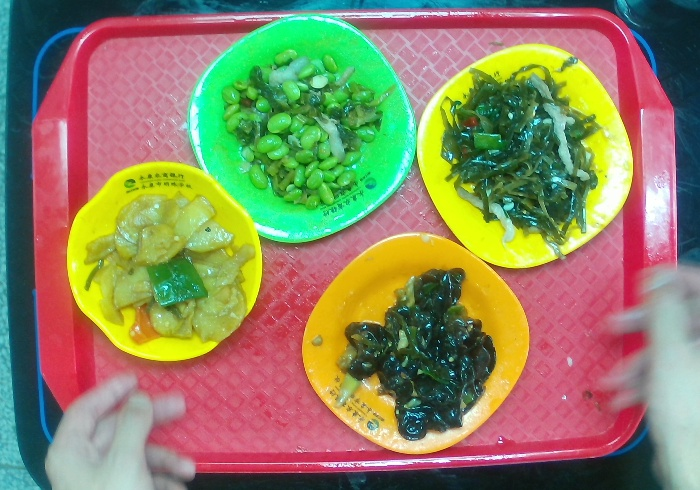YKMZ-Huang_Se_Ao_Bian_Wan: (65, 162, 263, 363)
YKMZ-Huang_Se_Fang_Die: (415, 41, 635, 269)
YKMZ-Ju_Se_Fang_Die: (298, 231, 531, 460)
YKMZ-Lv_Se_Fang_Die: (187, 12, 414, 246)
